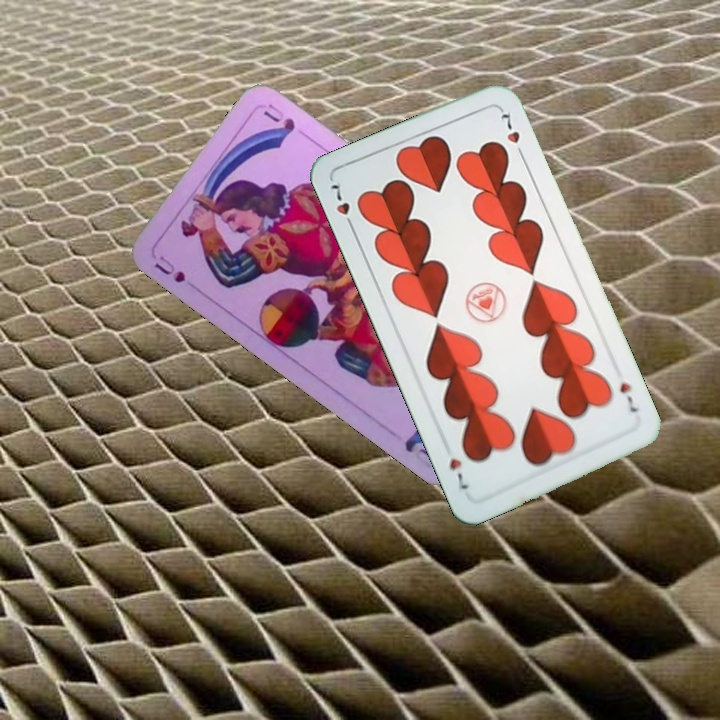H7: (327, 179, 357, 234), (615, 378, 640, 416)
SU: (150, 251, 188, 286)
